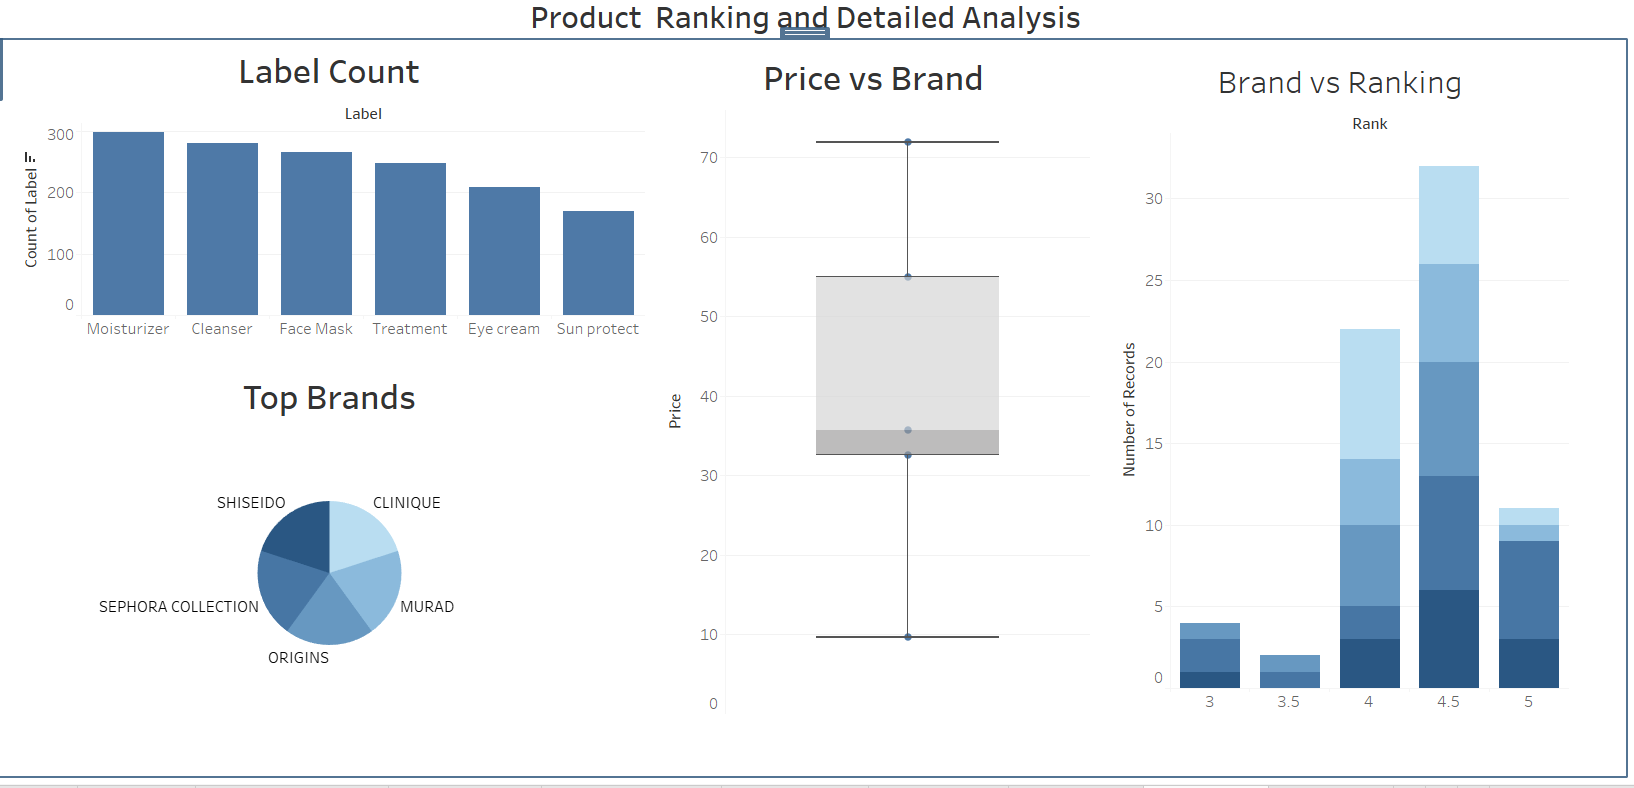

Layout of this report page (visuals, bound fields, positions):
{"tool":"tableau","page":{"name":"Dashboard 1","canvas":[1000,1000],"units":"permille","ordinal":0},"visuals":[{"type":"title","box":[4.8,10,990.3,61.2]},{"type":"dashboard-object","box":[877.5,20,64,46.2]},{"type":"worksheet","title":"Label Count","mark":"Bar","rows":["Label"],"cols":["Label"],"box":[21.7,74.9,347.6,389.5]},{"type":"worksheet","title":"Price vs Brand","mark":"Circle","rows":["Price"],"box":[372.4,83.7,257.1,829]},{"type":"worksheet","title":"Brand vs Ranking","mark":"Bar","rows":["cosmetics.csv_7A91C343A69544FB9B29DD5A3A0506FA"],"cols":["Rank"],"box":[651.8,91.1,262.5,820.2]},{"type":"worksheet","title":"Top Brands","mark":"Pie","box":[19.9,481.9,345.2,403.2]}]}

Visuals, with their boxes on the dashboard's canvas, which has no fixed pixel size, in thousandths of its width and height (x1, y1, x2, y2). These are canvas units, not pixel positions in the 1634x788 screenshot, which may show the page scaled, cropped or inside an application window:
title: (left=5, top=10, right=995, bottom=71)
dashboard-object: (left=878, top=20, right=942, bottom=66)
"Label Count" worksheet (Bar marks): (left=22, top=75, right=369, bottom=464)
"Price vs Brand" worksheet (Circle marks): (left=372, top=84, right=630, bottom=913)
"Brand vs Ranking" worksheet (Bar marks): (left=652, top=91, right=914, bottom=911)
"Top Brands" worksheet (Pie marks): (left=20, top=482, right=365, bottom=885)
